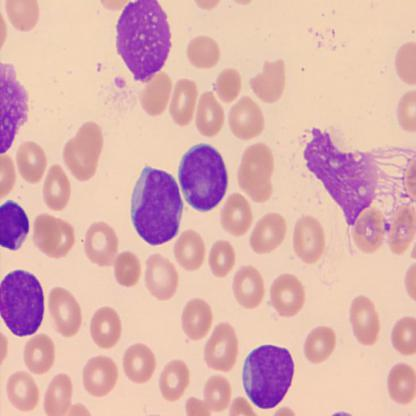Blast: (128, 162, 185, 246), (176, 140, 230, 214), (241, 343, 297, 411)
